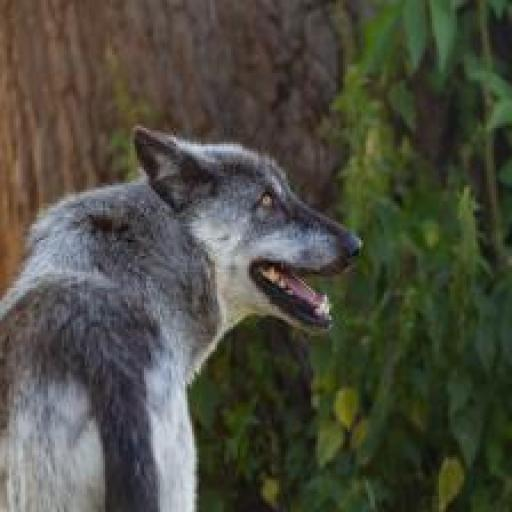wolf: (2, 121, 364, 512)
